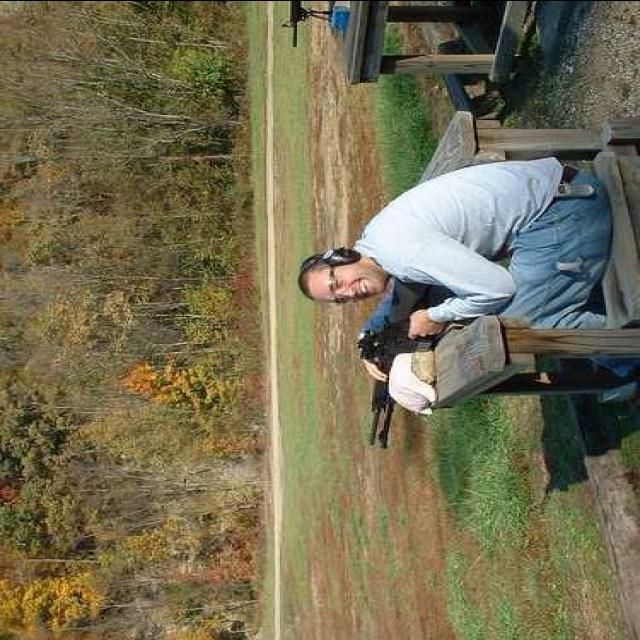heavyweapon: (347, 247, 479, 455)
